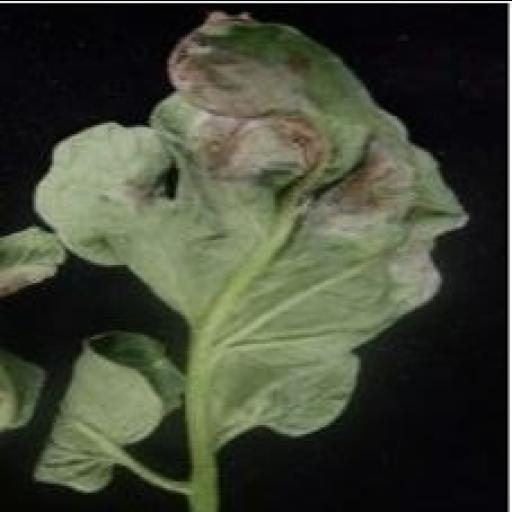disease_tomato: (2, 0, 473, 499)
